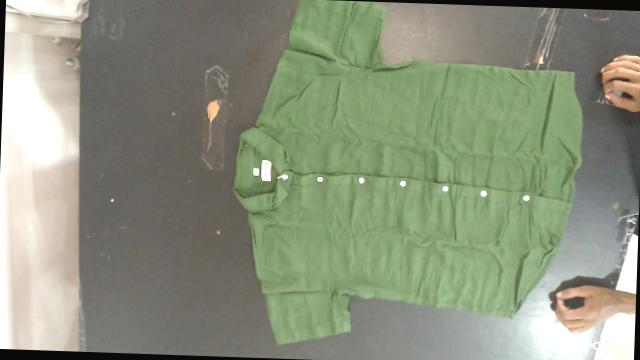new-garment: (233, 0, 582, 343)
